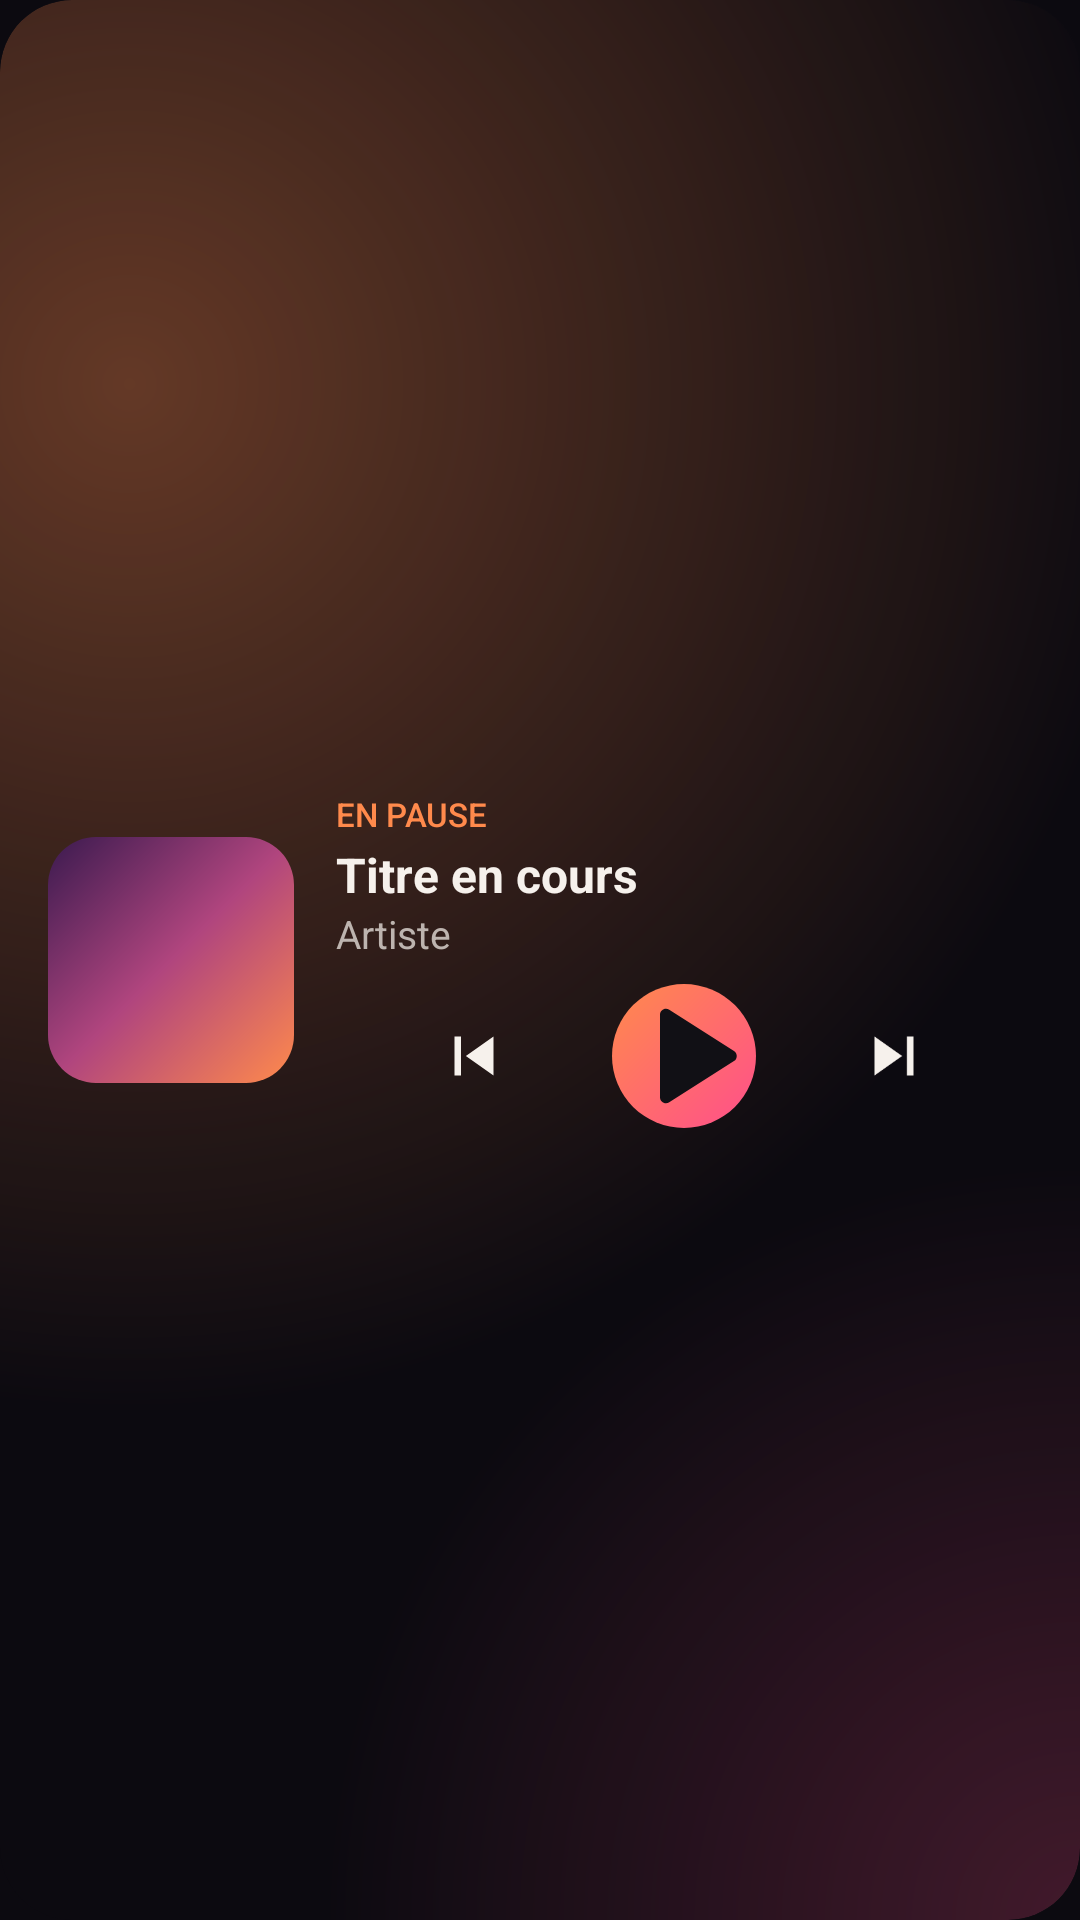

Screen size 1080px×1920px. Icon name, then its center in pixels as (x,y):
widget lumen play: (684,1056)
widget next: (894,1056)
widget previous: (474,1056)
